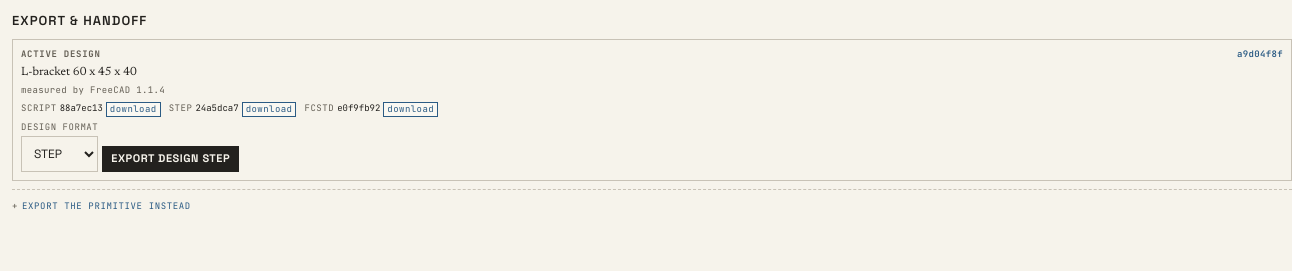
Test: ExportPanel — artifact downloads next to the digest chips › downloads the stored FCStd and shows a receipt with the real digest
The image size is (1292, 271).
Click the button with class "export-panel-design-download" next to "e0f9fb92". click: [411, 109]
box: [383, 102, 438, 116]
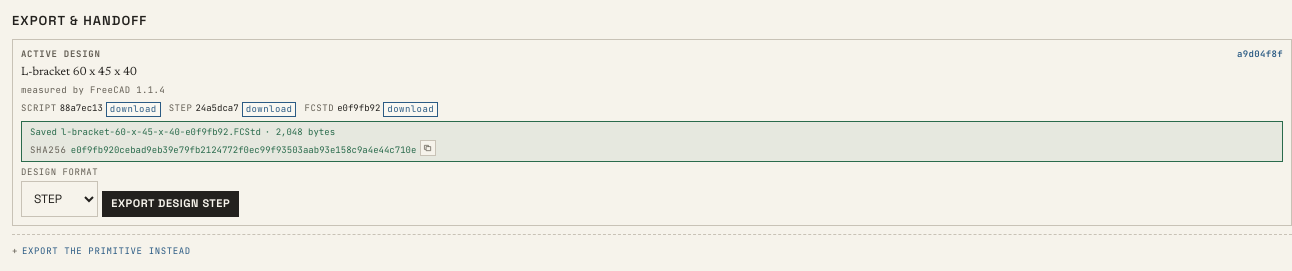
Result: the message with class "export-panel-receipt" is shown at [21, 121, 1283, 162]
Result: the message with class "export-panel-receipt" shows "l-bracket-60-x-45-x-40-e0f9fb92.FCStd" at [61, 126, 261, 138]
Result: the message with class "export-panel-receipt" shows "2,048" at [276, 126, 303, 138]
